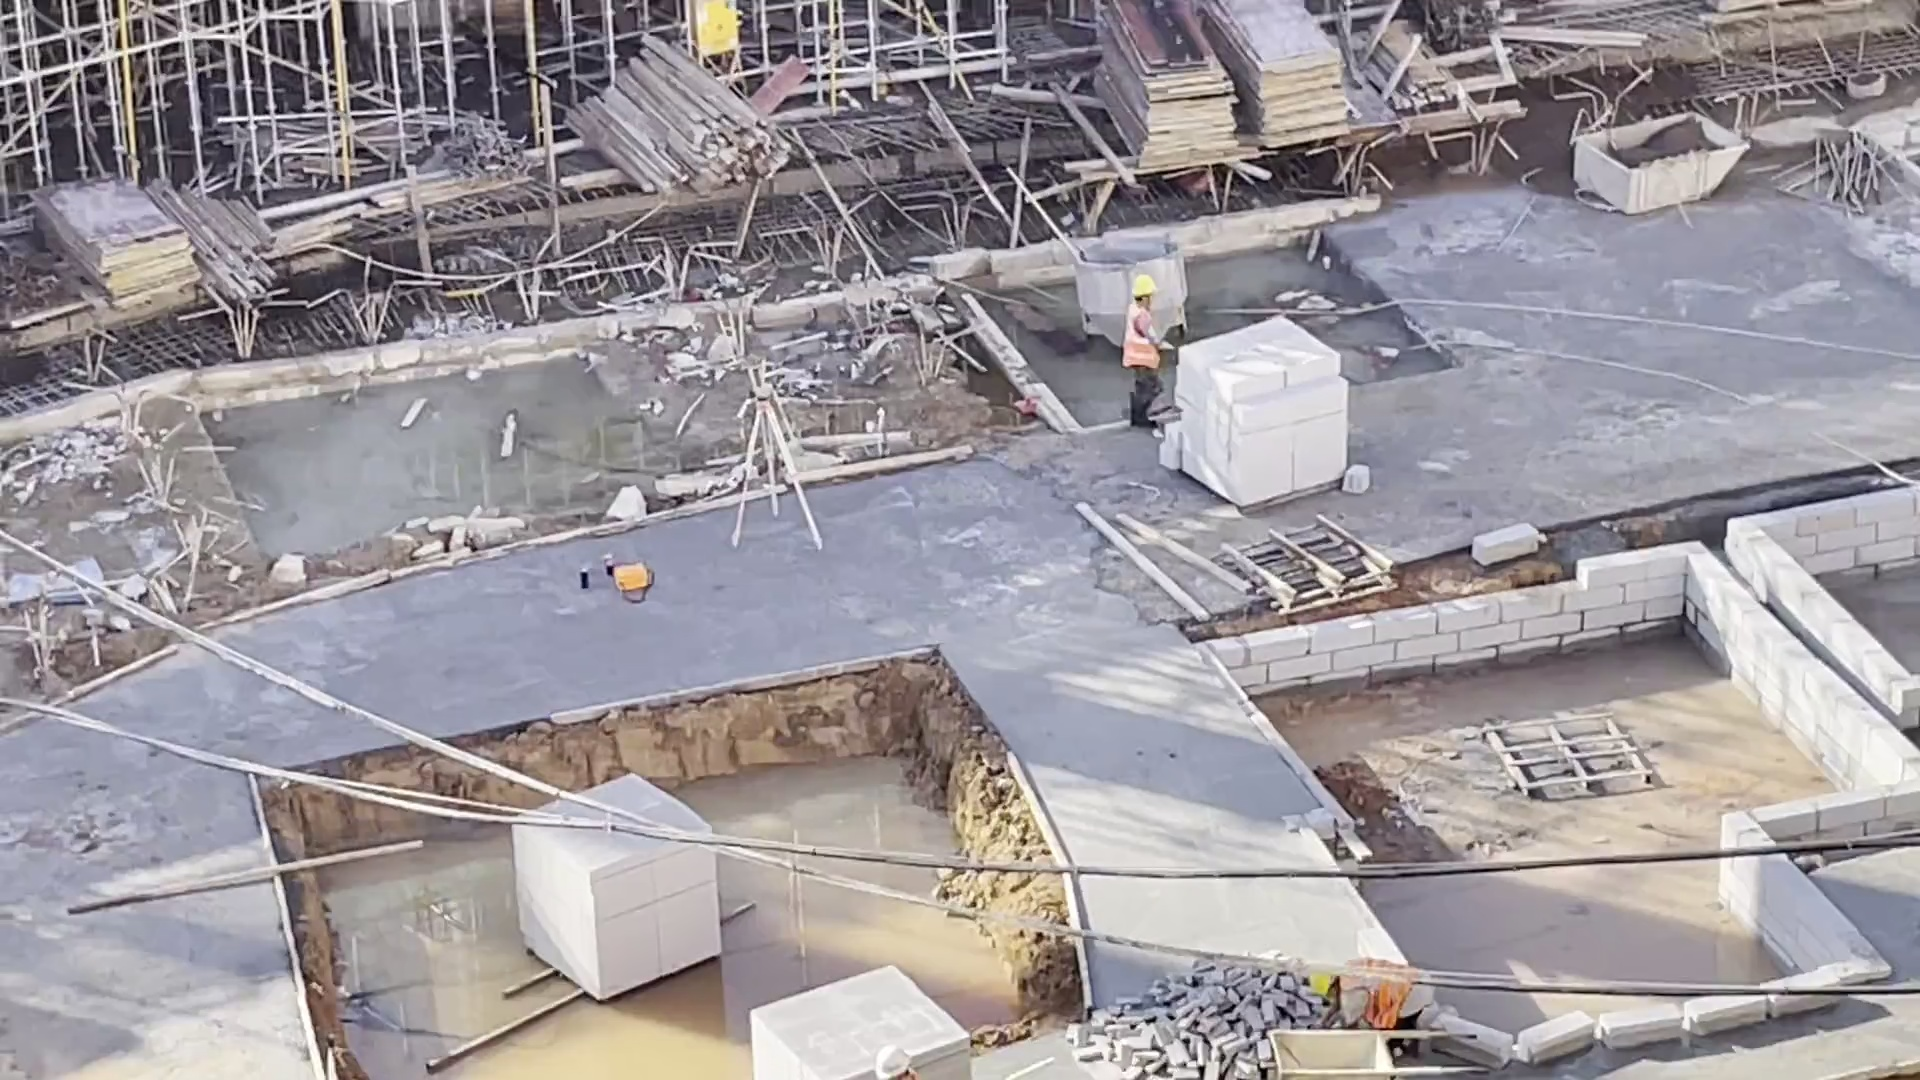board: (1078, 2, 1244, 171), (34, 171, 208, 315), (1206, 6, 1356, 150)
brick: (1171, 316, 1358, 512), (515, 854, 719, 1001), (754, 965, 974, 1080)
ebox: (684, 4, 747, 61)
handcart: (1270, 1026, 1485, 1080)
helmet: (871, 1046, 915, 1078), (1129, 276, 1159, 301)
hopper: (1560, 105, 1755, 217), (1070, 235, 1119, 349)
person: (1296, 958, 1444, 1032), (1118, 275, 1174, 434)
vest: (1119, 313, 1164, 371)
wood: (569, 37, 796, 194), (204, 193, 284, 320)
